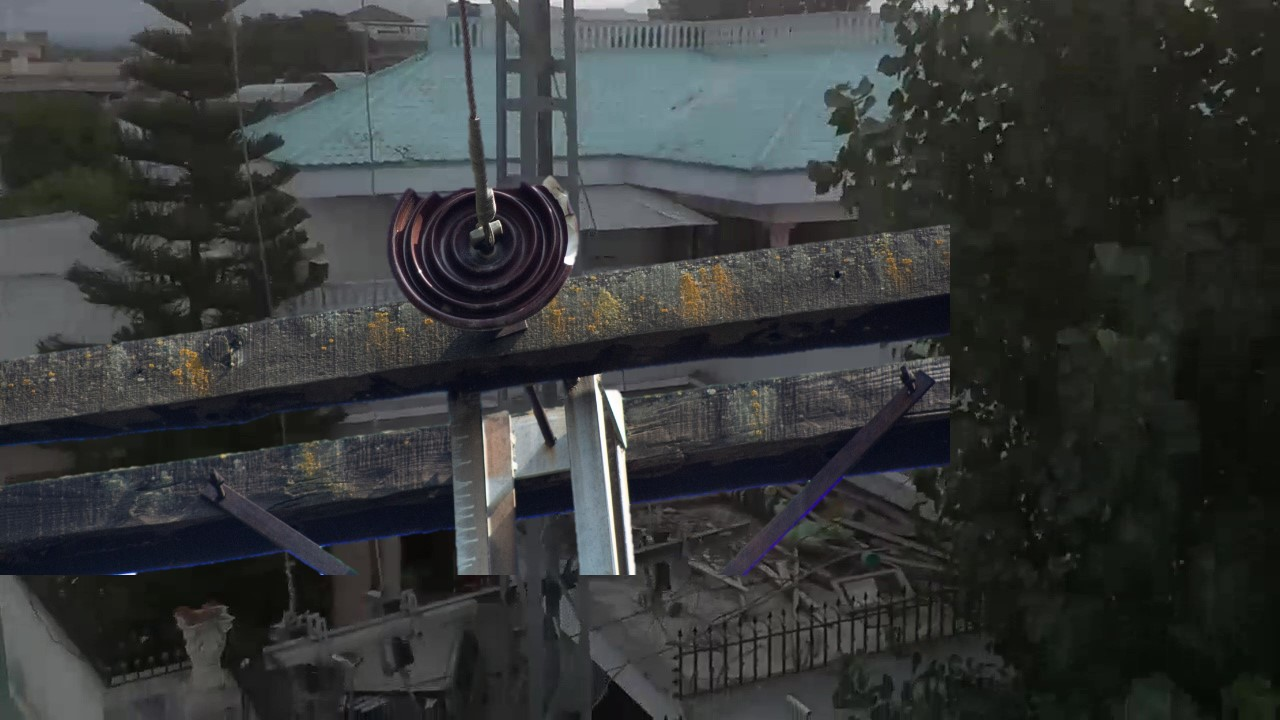defect_disc: (386, 167, 589, 329)
